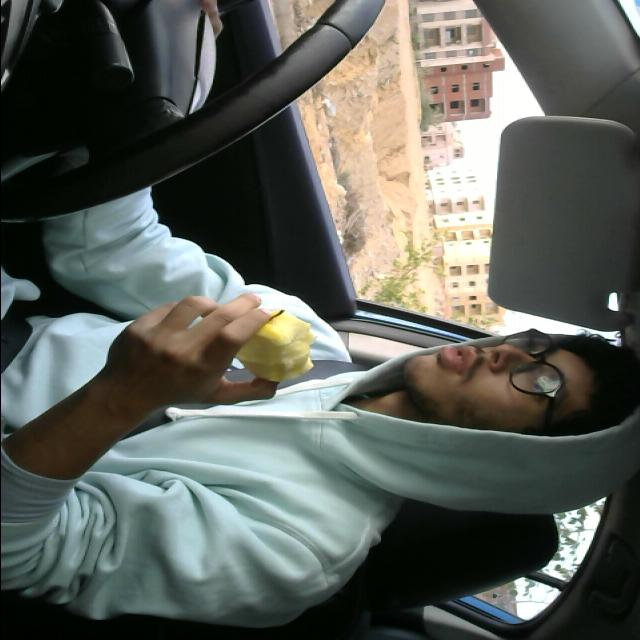eating: (212, 290, 314, 376)
